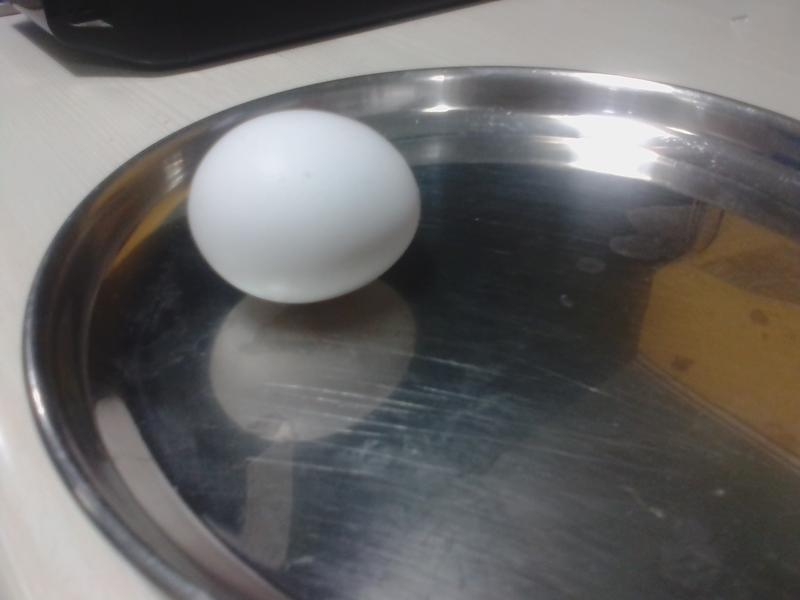egg: (181, 112, 419, 308)
